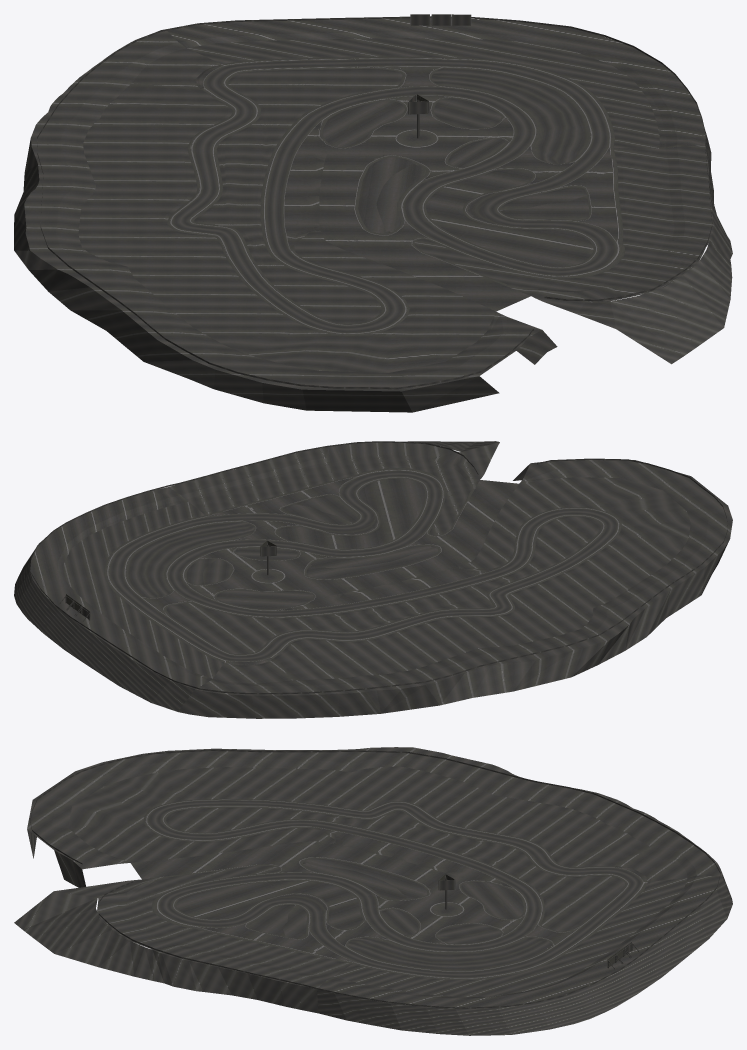
File: drift-track.glb
3 renders of one model, top to bottom at view 1: azimuth 30°, elevation 25°; view 2: azimuth 150°, elevation 25°; view 3: azimuth 270°, elevation 25°, orthographic. The views are drawn at different scales.
Parts seen in each view (by area): view 1: drift-track; view 2: drift-track; view 3: drift-track.
Boxes of the visible parts, left/top/right/bottom form: drift-track: left=14, top=14, right=732, bottom=412; drift-track: left=14, top=441, right=732, bottom=718; drift-track: left=14, top=747, right=732, bottom=1035.
Size of the model in its own units: 315 by 28.7 by 358.
1 material, 1 textured.
